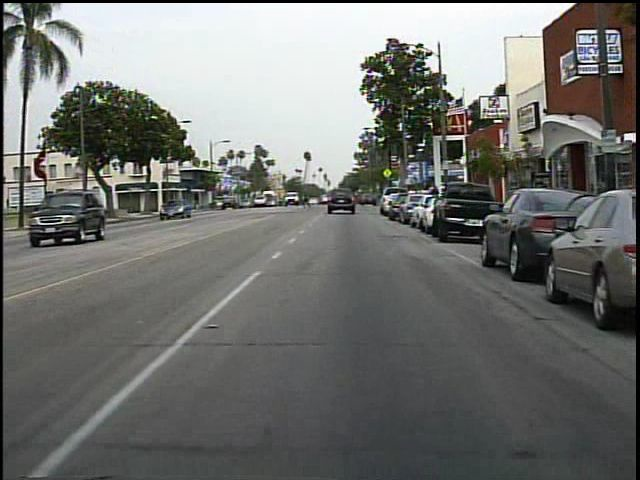person: (427, 180, 446, 219), (302, 186, 316, 213)
